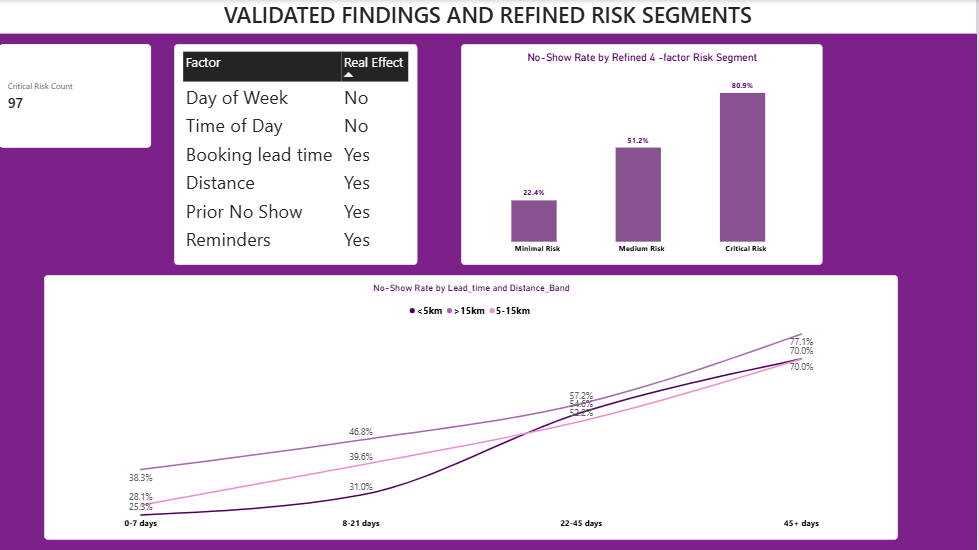

The dashboard page shown, as its layout file describes it:
{"tool":"powerbi","page":{"name":"Validation","canvas":[1920,1080],"ordinal":2},"visuals":[{"type":"lineChart","title":"No-Show Rate by Lead_time and Distance_Band","fields":{"Category":["HealthConnect_Appointment_Data_.lead_time_band"],"Series":["HealthConnect_Appointment_Data_.distance_band"],"Y":["Measures (2).No-Show Rate"]},"box":[88.2,540,1677.3,520.2],"z":0},{"type":"clusteredColumnChart","title":"No-Show Rate by Refined 4 -factor Risk Segment","fields":{"Category":["HealthConnect_Appointment_Data_ (2).risk_v2"],"Y":["Measures (2).No-Show Rate"]},"box":[908.1,86,709.7,434.2],"z":1},{"type":"cardVisual","fields":{"Data":["Measures (2).Critical Risk Count"]},"box":[0,86,299.8,205],"z":2},{"type":"tableEx","fields":{"Values":["Table.Factor","Table.Real Effect"]},"box":[343.8,86,478.3,434.2],"z":3},{"type":"textbox","box":[0,0,1919.8,66.1],"z":4}]}

Visuals, with their boxes in screenshot pixels (x1, y1, x2, y2), scaled from the page's 1920x1080 canvas onto the 979x550 screenshot:
"No-Show Rate by Lead_time and Distance_Band" lineChart: x1=45, y1=275, x2=900, y2=540
"No-Show Rate by Refined 4 -factor Risk Segment" clusteredColumnChart: x1=463, y1=44, x2=825, y2=265
cardVisual - Measures (2).Critical Risk Count: x1=0, y1=44, x2=153, y2=148
tableEx - Table.Factor x Table.Real Effect: x1=175, y1=44, x2=419, y2=265
textbox: x1=0, y1=0, x2=978, y2=34
